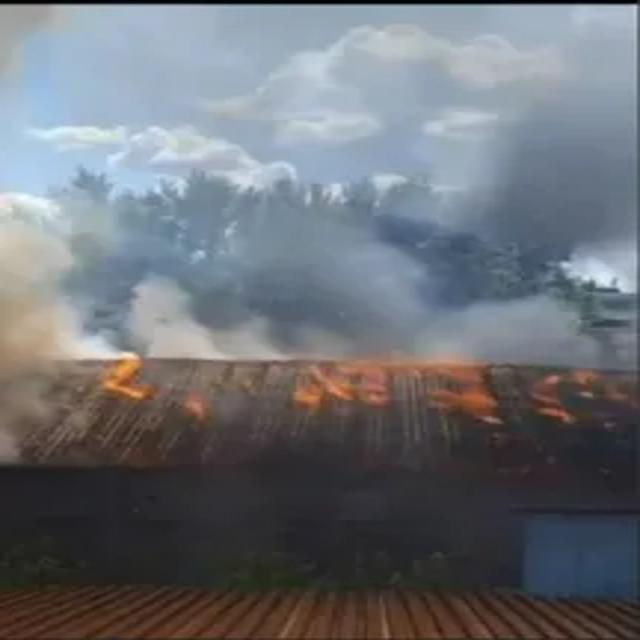smoke: (452, 10, 640, 252), (306, 255, 604, 364), (1, 7, 65, 416), (129, 258, 286, 367)
